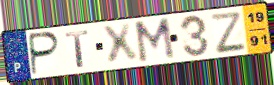3: (178, 13, 210, 59)
M: (132, 16, 177, 65)
P: (29, 30, 62, 77)
T: (64, 28, 92, 69)
X: (100, 22, 142, 67)
Z: (208, 10, 248, 55)
